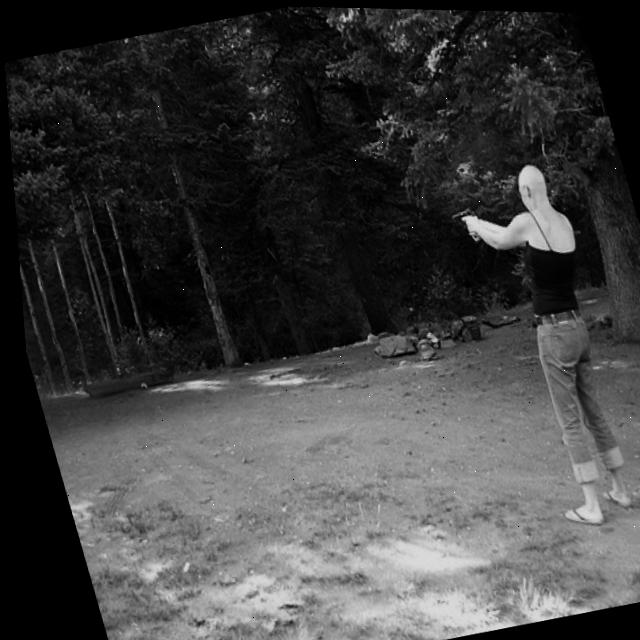pistol: (445, 203, 474, 222)
